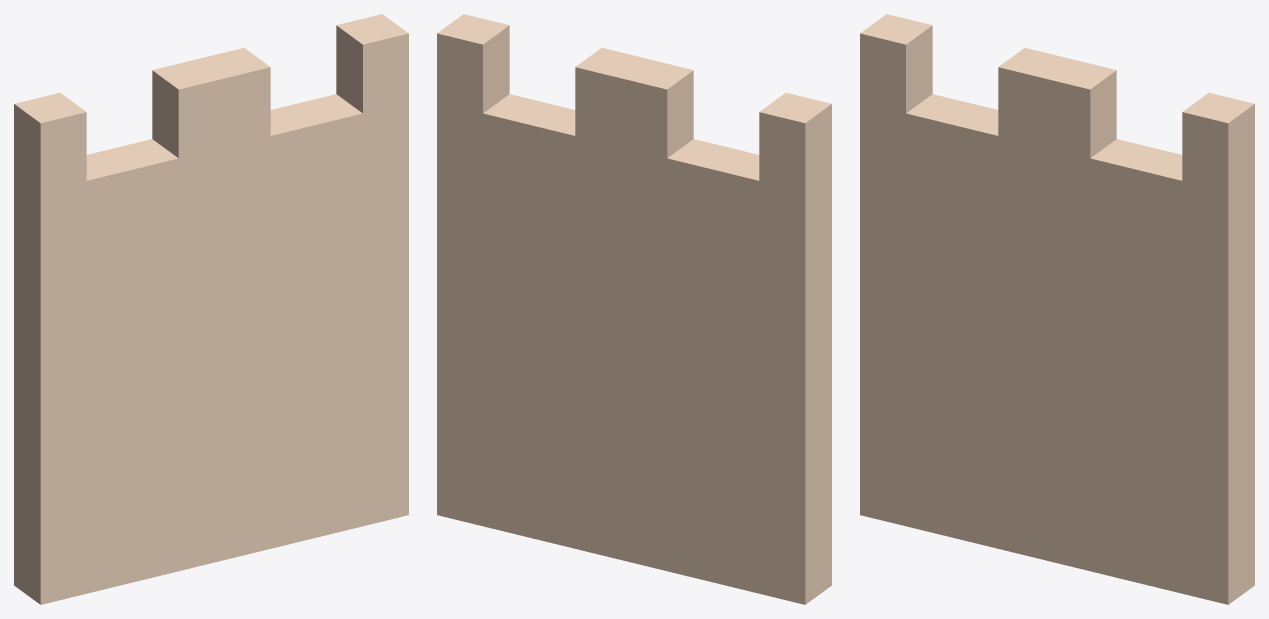
Rendered from Abstract_Castle_Block_Single_BattlementBack_Cream_01.fbx.
The picture shows the model from 3 angles, left to right: view 1: azimuth 30°, elevation 25°; view 2: azimuth 150°, elevation 25°; view 3: azimuth 330°, elevation 25°; orthographic projection.
Parts seen in each view (by area): view 1: Model; view 2: Model; view 3: Model.
Boxes of the visible parts, <box> form: Model: <box>14,14,408,604</box>; Model: <box>437,14,831,604</box>; Model: <box>860,14,1254,604</box>.
Size of the model in its own units: 1000 by 1250 by 125.
